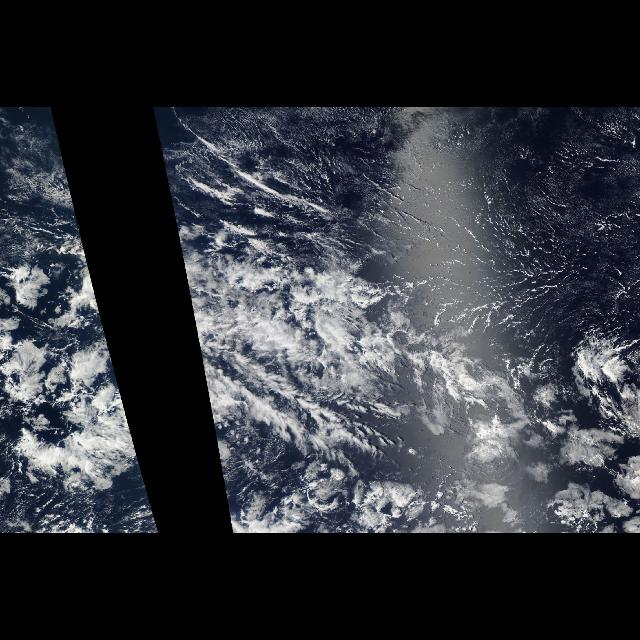Gravel: (326, 109, 640, 325)
Sugar: (404, 114, 638, 366)
